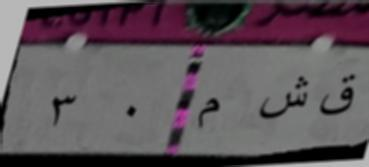0: (120, 99, 142, 128)
3: (50, 92, 78, 130)
meem: (190, 96, 224, 130)
qaaf: (316, 72, 360, 122)
sheen: (258, 74, 310, 124)
